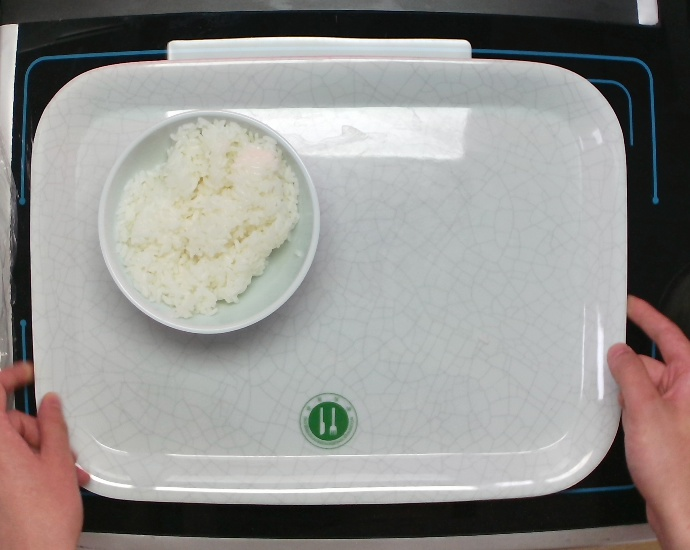JYsf-Fan_Wan: (96, 107, 322, 336)
